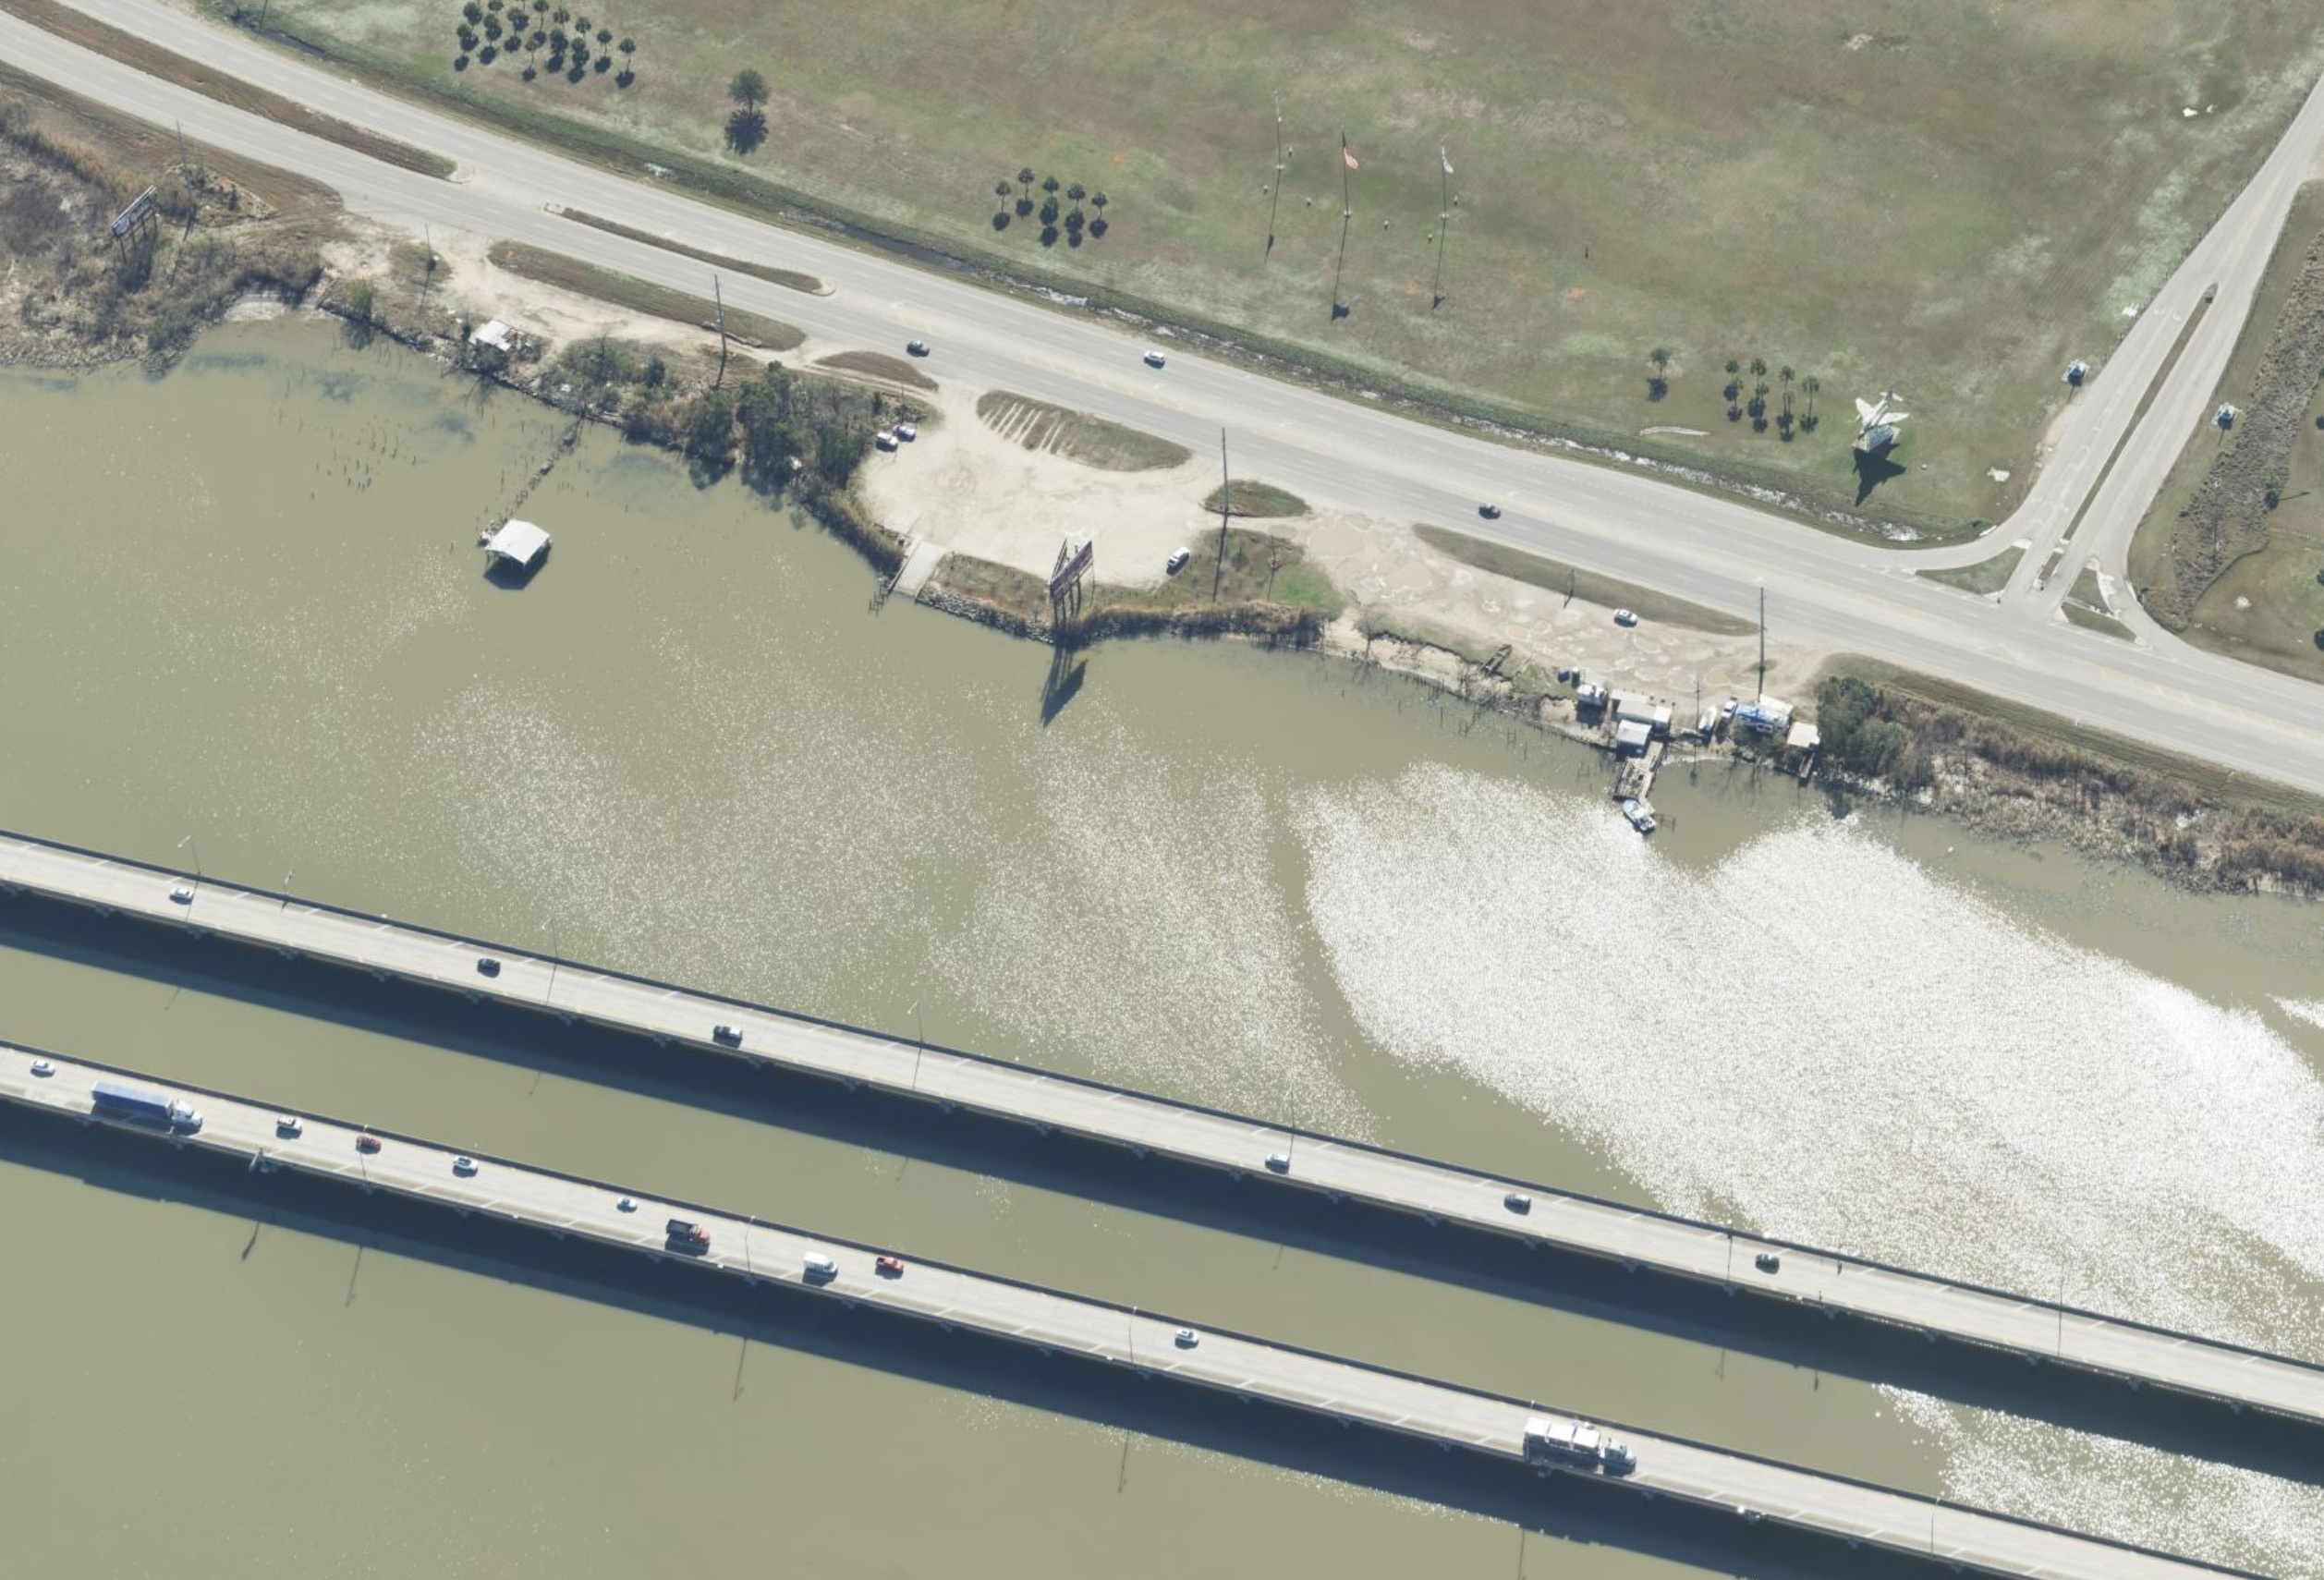F4: (1853, 383, 1910, 443)
